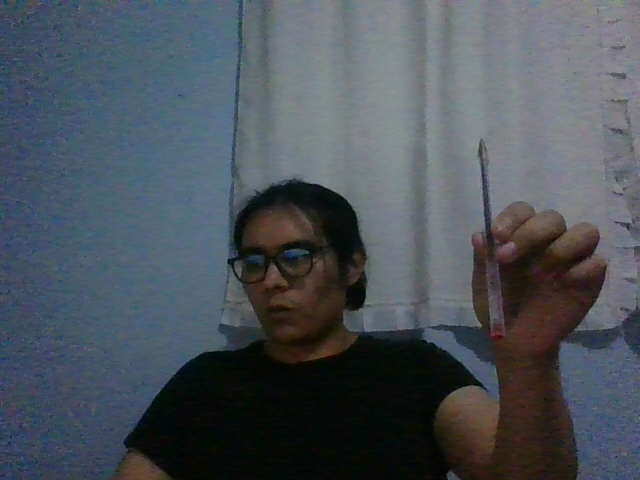pluma: (476, 138, 506, 340)
